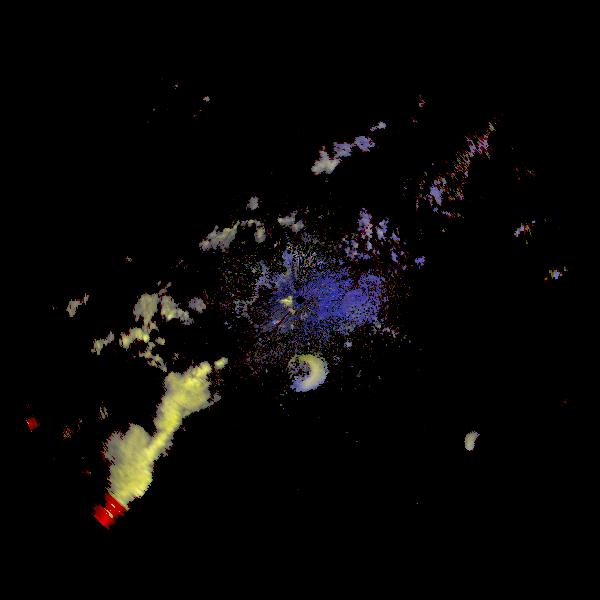roost: (281, 350, 326, 395), (464, 425, 503, 464)
